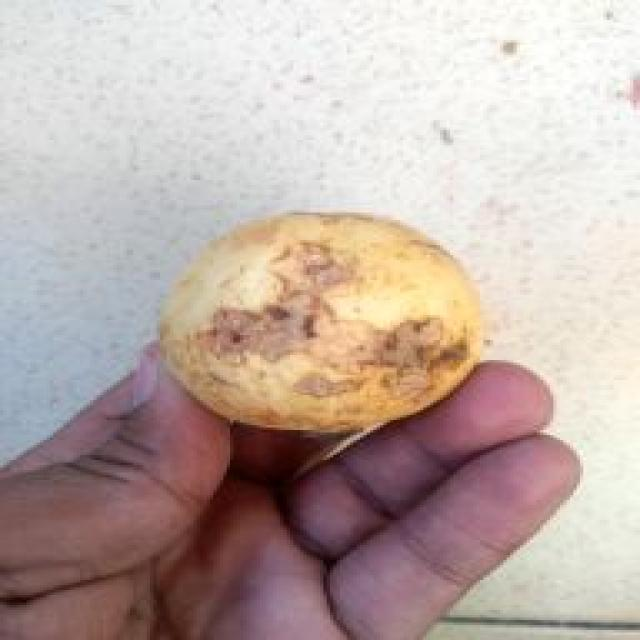Bad_Guava: (162, 212, 482, 432)
